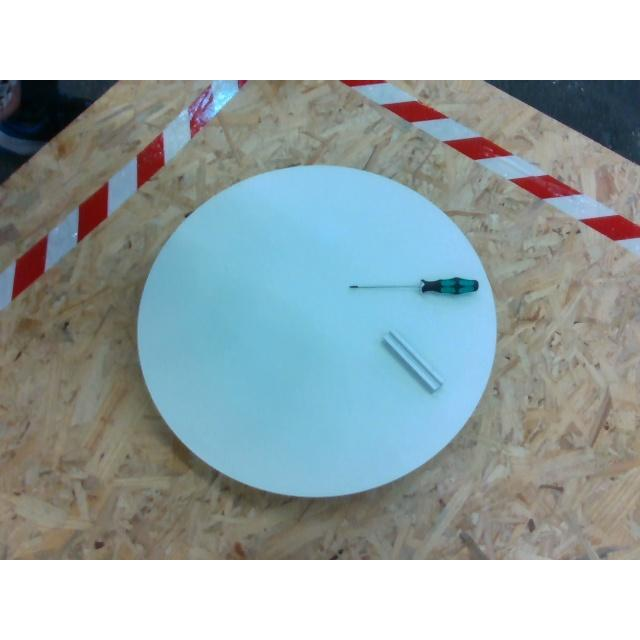F20_20_G: (382, 330, 442, 390)
Screwdriver: (349, 276, 478, 294)
